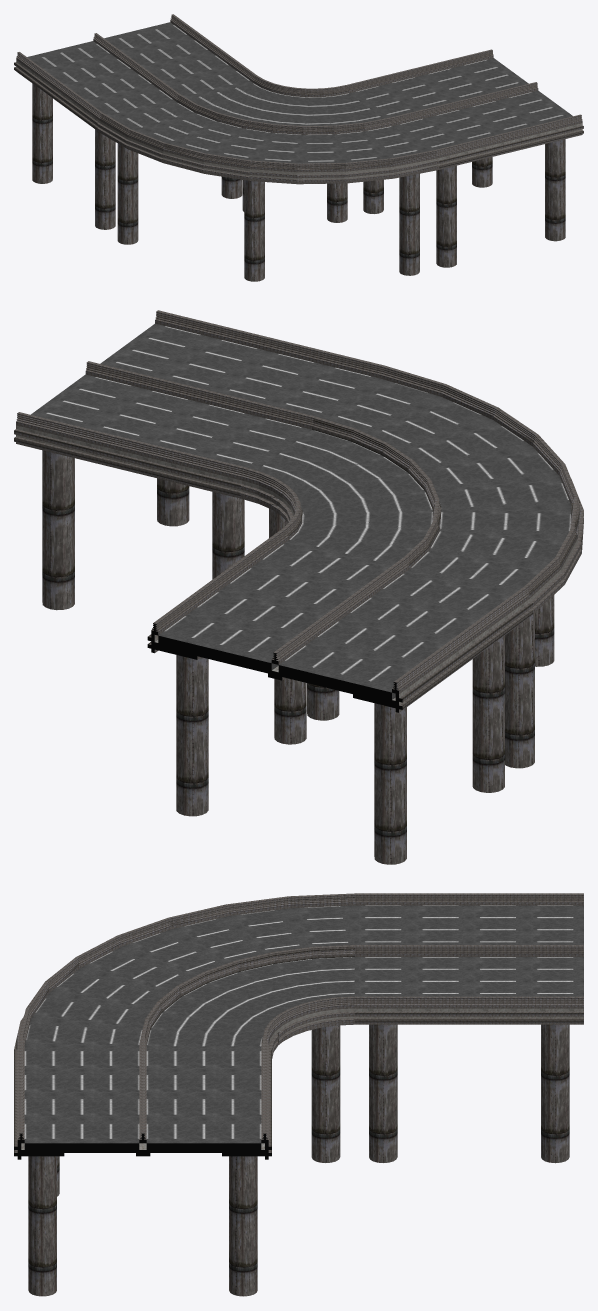
Rendered from Highway90_high.fbx.
3 renders of one model, top to bottom at view 1: azimuth 30°, elevation 25°; view 2: azimuth 150°, elevation 25°; view 3: azimuth 270°, elevation 25°, orthographic. The views are drawn at different scales.
Parts seen in each view (by area): view 1: materialA150, materialD150, materialC150; view 2: materialD150, materialA150, materialB150, materialC150; view 3: materialD150, materialA150, materialB150, materialC150.
Boxes of the visible parts, bbox=[...] form: materialA150: bbox=[14, 14, 583, 281]; materialD150: bbox=[27, 22, 572, 163]; materialC150: bbox=[16, 60, 582, 179]; materialD150: bbox=[31, 323, 571, 699]; materialA150: bbox=[14, 310, 583, 864]; materialB150: bbox=[147, 623, 402, 712]; materialC150: bbox=[16, 425, 579, 705]; materialD150: bbox=[24, 905, 583, 1143]; materialA150: bbox=[14, 893, 583, 1296]; materialB150: bbox=[14, 1133, 271, 1159]; materialC150: bbox=[21, 1008, 583, 1149].
Size of the model in its own units: 128 by 41.6 by 127.
